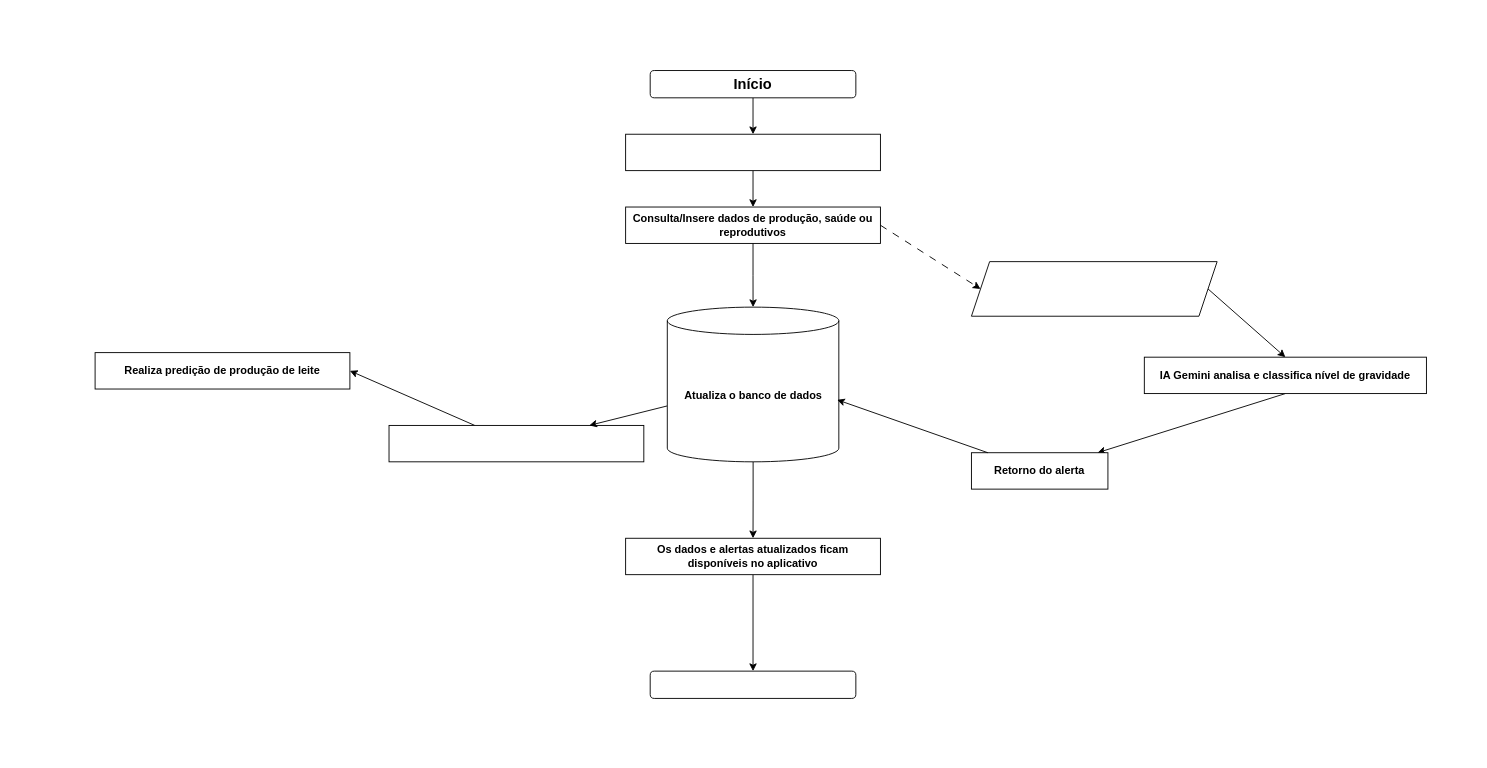
The diagram is 1487 pixels wide and 768 high, and some of its shapes have lost their labels. The centre of each missing label's shape, as x and y in pixels:
Abre o aplicativo mobile: (752,152)
Fim: (752,684)
IA Random Forest Regressor recebe dados do banco: (516,443)
Se houver registro de mastite durante a inserção dos dados de ordenha: (1094,288)
